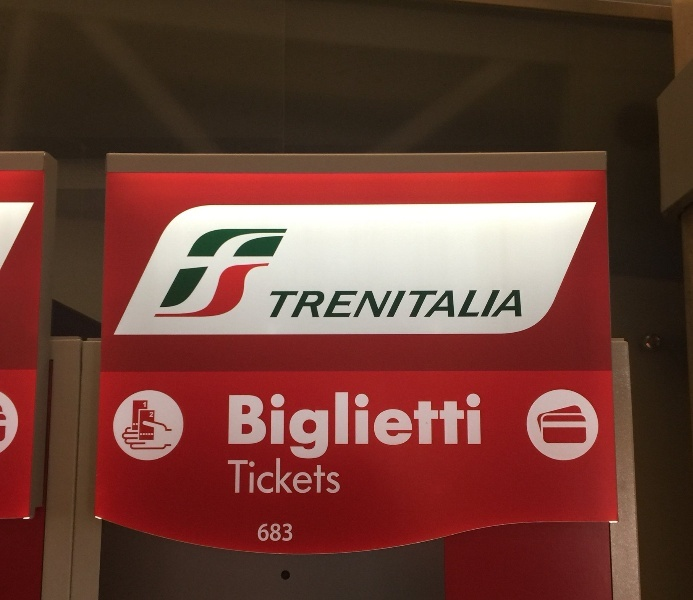text: (241, 390, 256, 467), (257, 390, 272, 467), (273, 390, 288, 467), (289, 390, 304, 467), (305, 390, 320, 467), (321, 390, 336, 467), (337, 390, 352, 467), (353, 390, 368, 467), (369, 390, 384, 467), (385, 390, 400, 467), (401, 390, 416, 467), (417, 390, 432, 467), (433, 390, 448, 467), (449, 390, 464, 467), (465, 390, 480, 467), (227, 390, 240, 467), (241, 453, 256, 496), (257, 453, 272, 496), (273, 453, 288, 496), (289, 453, 304, 496), (305, 453, 320, 496), (321, 453, 336, 496), (273, 285, 288, 321), (289, 285, 304, 321), (305, 285, 320, 321), (321, 285, 336, 321), (337, 285, 352, 321), (353, 285, 368, 321), (369, 285, 384, 321), (385, 285, 400, 321), (401, 285, 416, 321), (417, 285, 432, 321), (433, 285, 448, 321), (449, 285, 464, 321), (465, 285, 480, 321), (481, 285, 496, 321), (497, 285, 512, 321), (228, 453, 240, 496), (513, 285, 524, 321), (273, 522, 288, 543), (481, 390, 485, 467), (258, 522, 272, 543), (337, 453, 341, 496), (289, 522, 294, 543), (149, 411, 160, 418), (145, 402, 147, 408), (143, 402, 144, 408)
